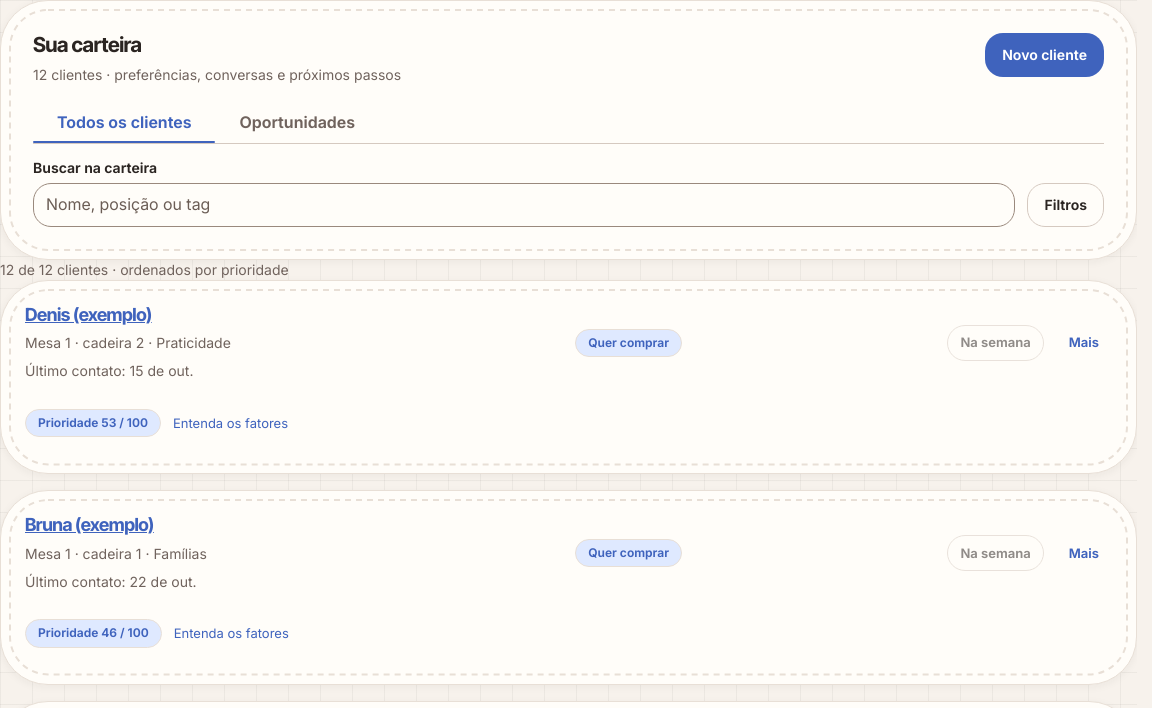
it: Planner critical review regressions › collapses active filters without clearing the selected filter or lying about its expanded state
The image size is (1152, 708).
Click the button "Filtros": {"x": 1066, "y": 205} [1028, 183, 1104, 227]
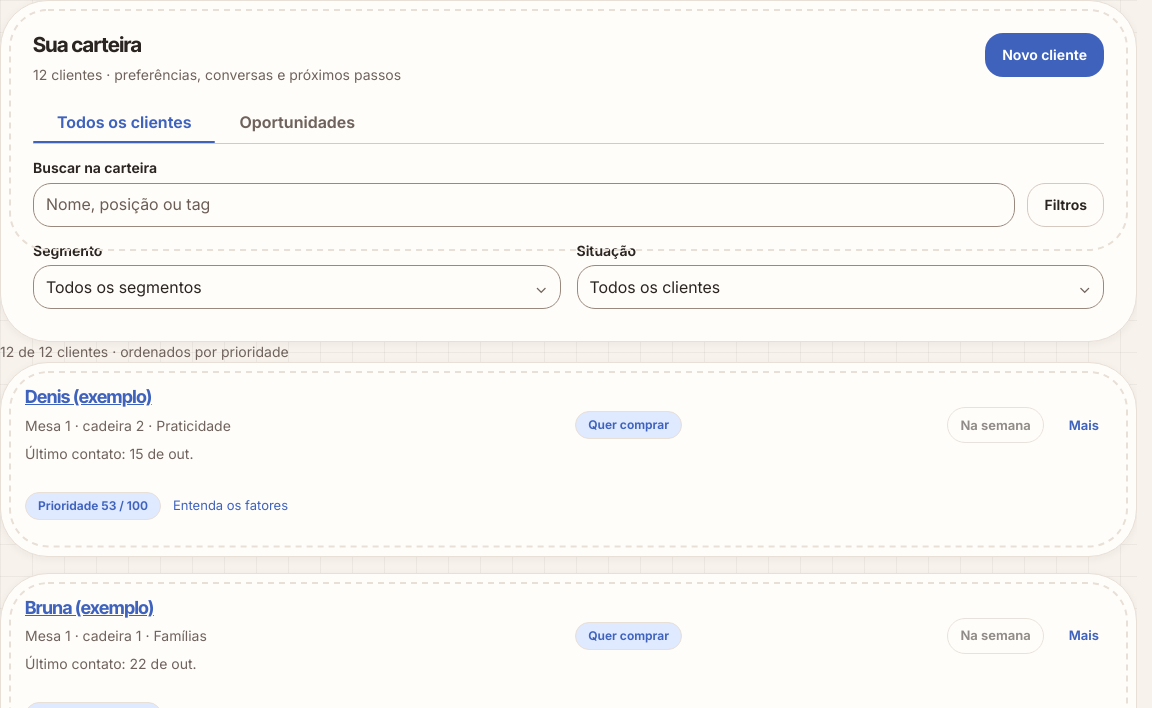
Click the button named "Situação": {"x": 655, "y": 287} [576, 265, 1104, 309]
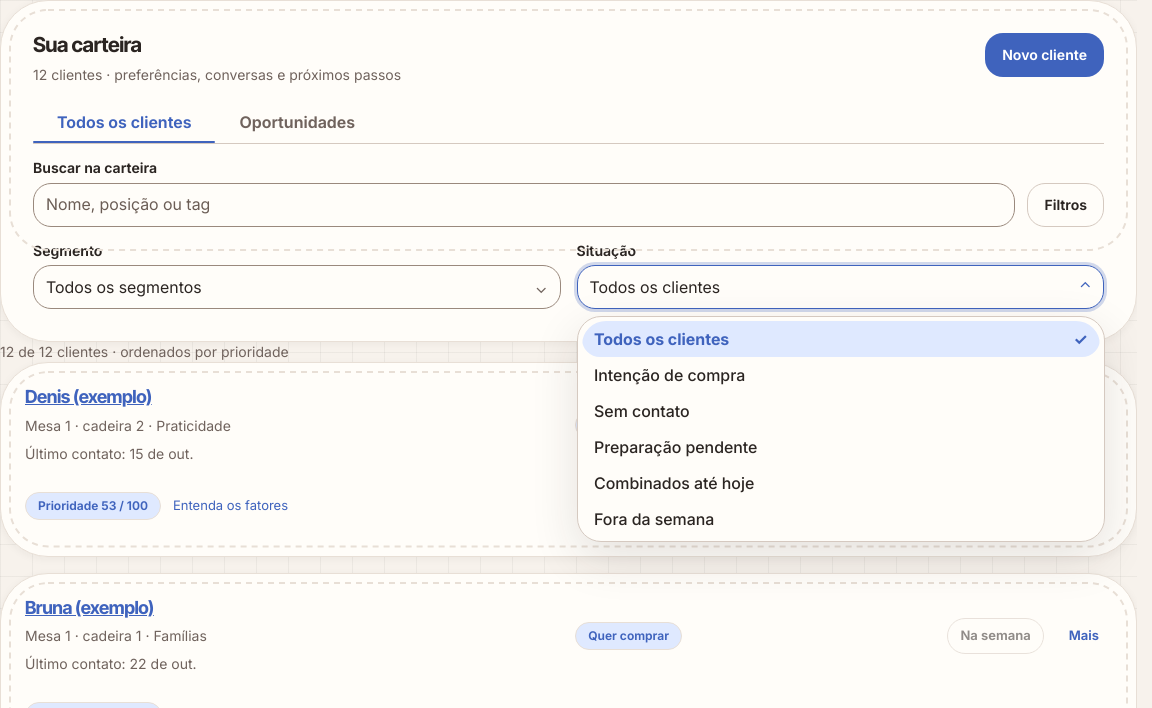
Click the option "Intenção de compra": {"x": 669, "y": 375} [582, 357, 1099, 393]
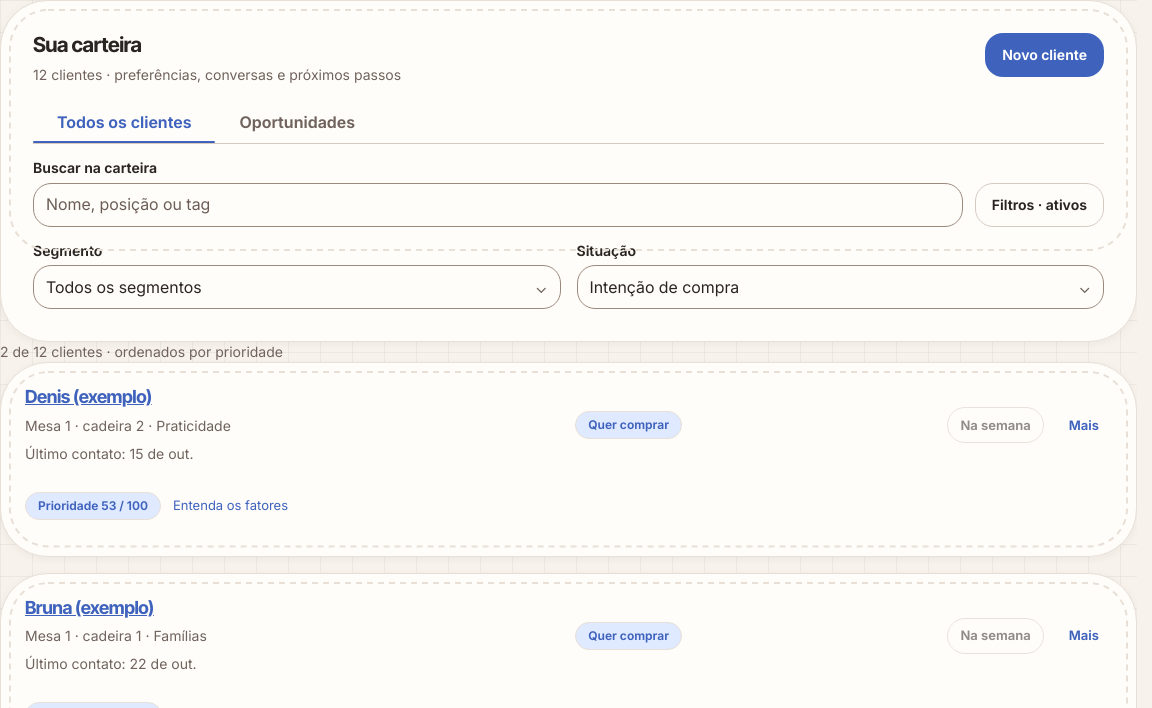
Now the text "Quer comprar" is shown 2 times, box [575, 411, 682, 440]; [575, 622, 682, 650]
Click the button "Filtros · ativos": {"x": 1039, "y": 205} [975, 183, 1104, 227]
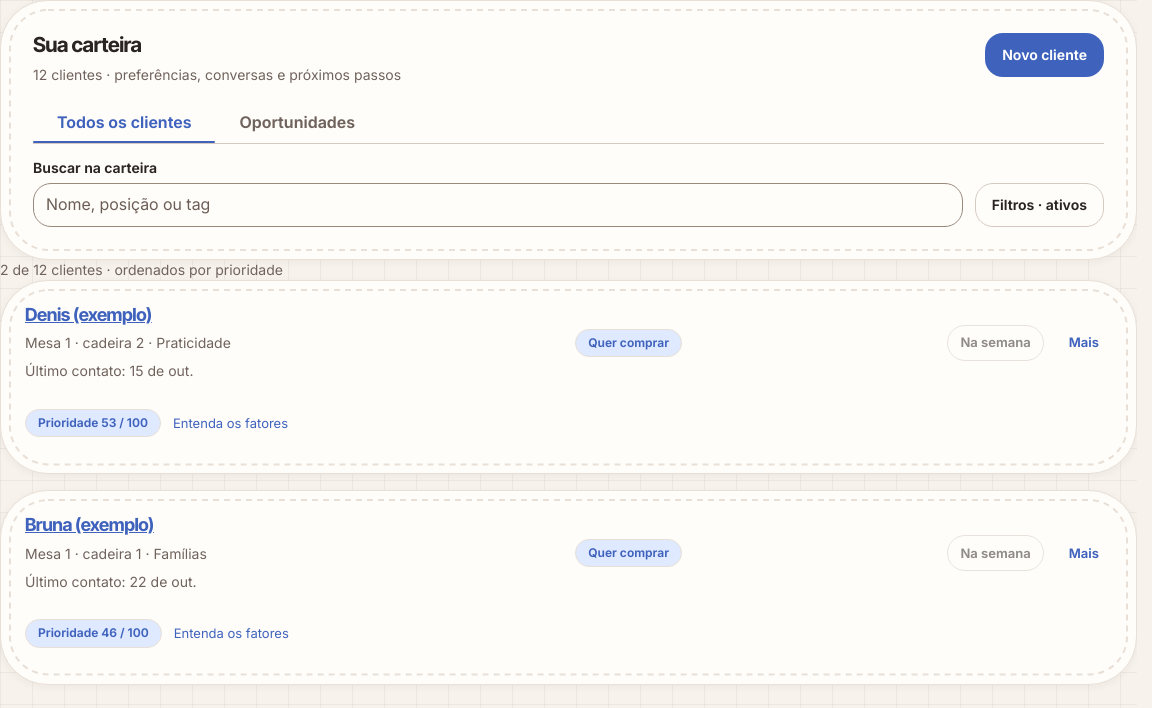
Now the text "Quer comprar" is shown 2 times, box [575, 329, 682, 357]; [575, 539, 682, 567]
Now the text "Situação" is gone
Click the button "Filtros · ativos": {"x": 1039, "y": 205} [975, 183, 1104, 227]
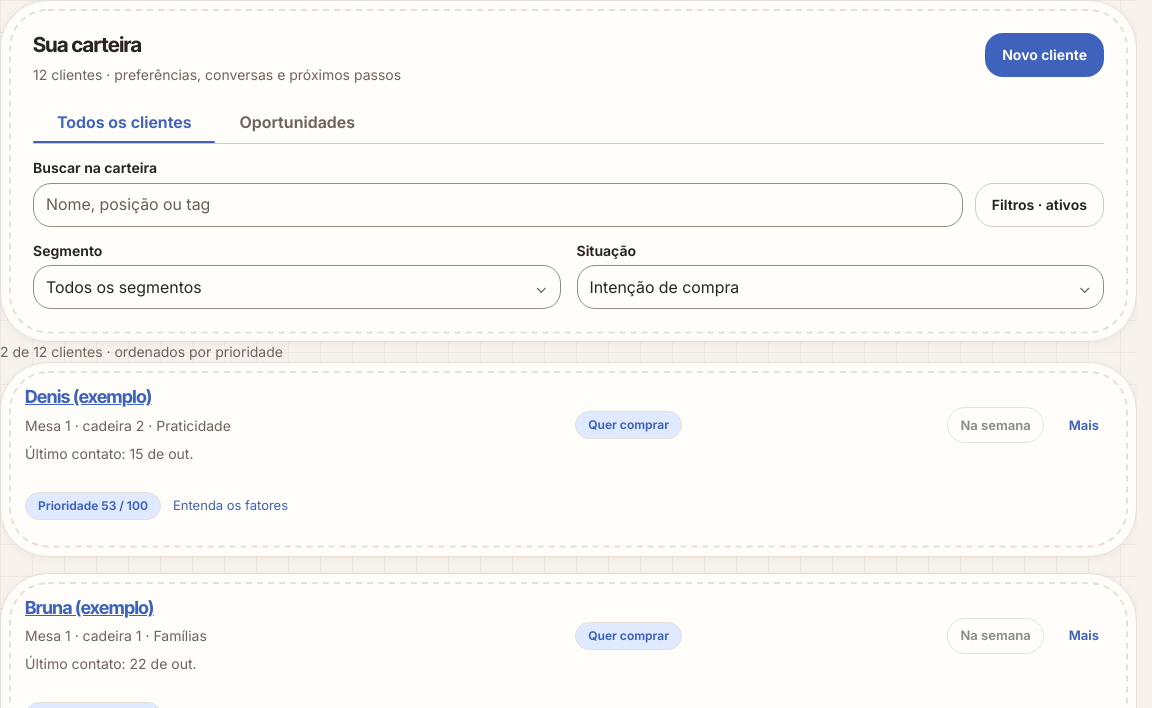
Now the button named "Situação" shows "Intenção de compra", box [576, 265, 1104, 309]
